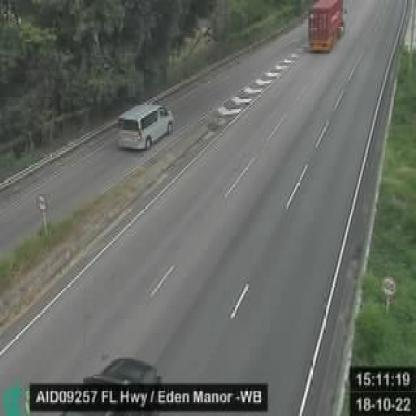Car: (115, 96, 174, 152)
Truck: (308, 0, 345, 54)
